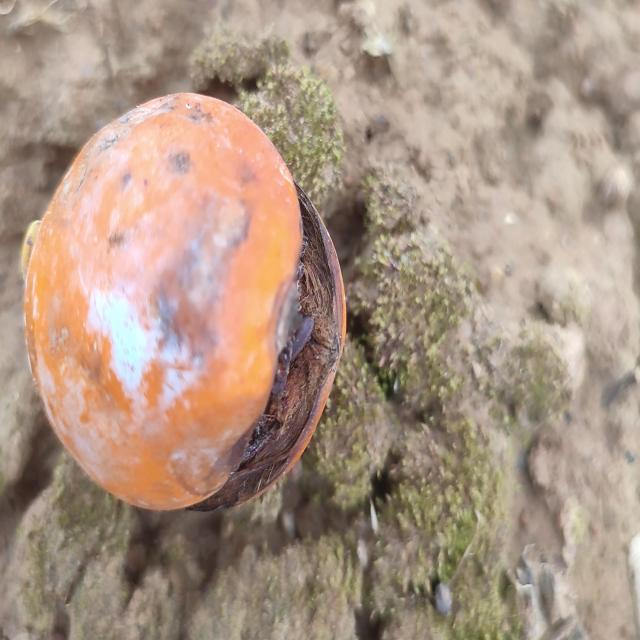damaged: (24, 93, 346, 511)
